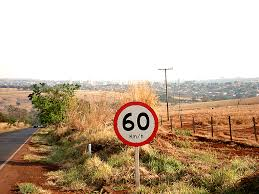Speed_limit_60km: (114, 100, 160, 146)
